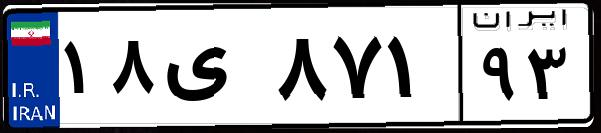1: (385, 28, 445, 110), (57, 26, 110, 100)
3: (525, 38, 570, 115)
7: (330, 28, 385, 110)
8: (270, 28, 330, 110), (110, 28, 158, 98)
9: (475, 38, 525, 113)
ی: (158, 20, 270, 120)
